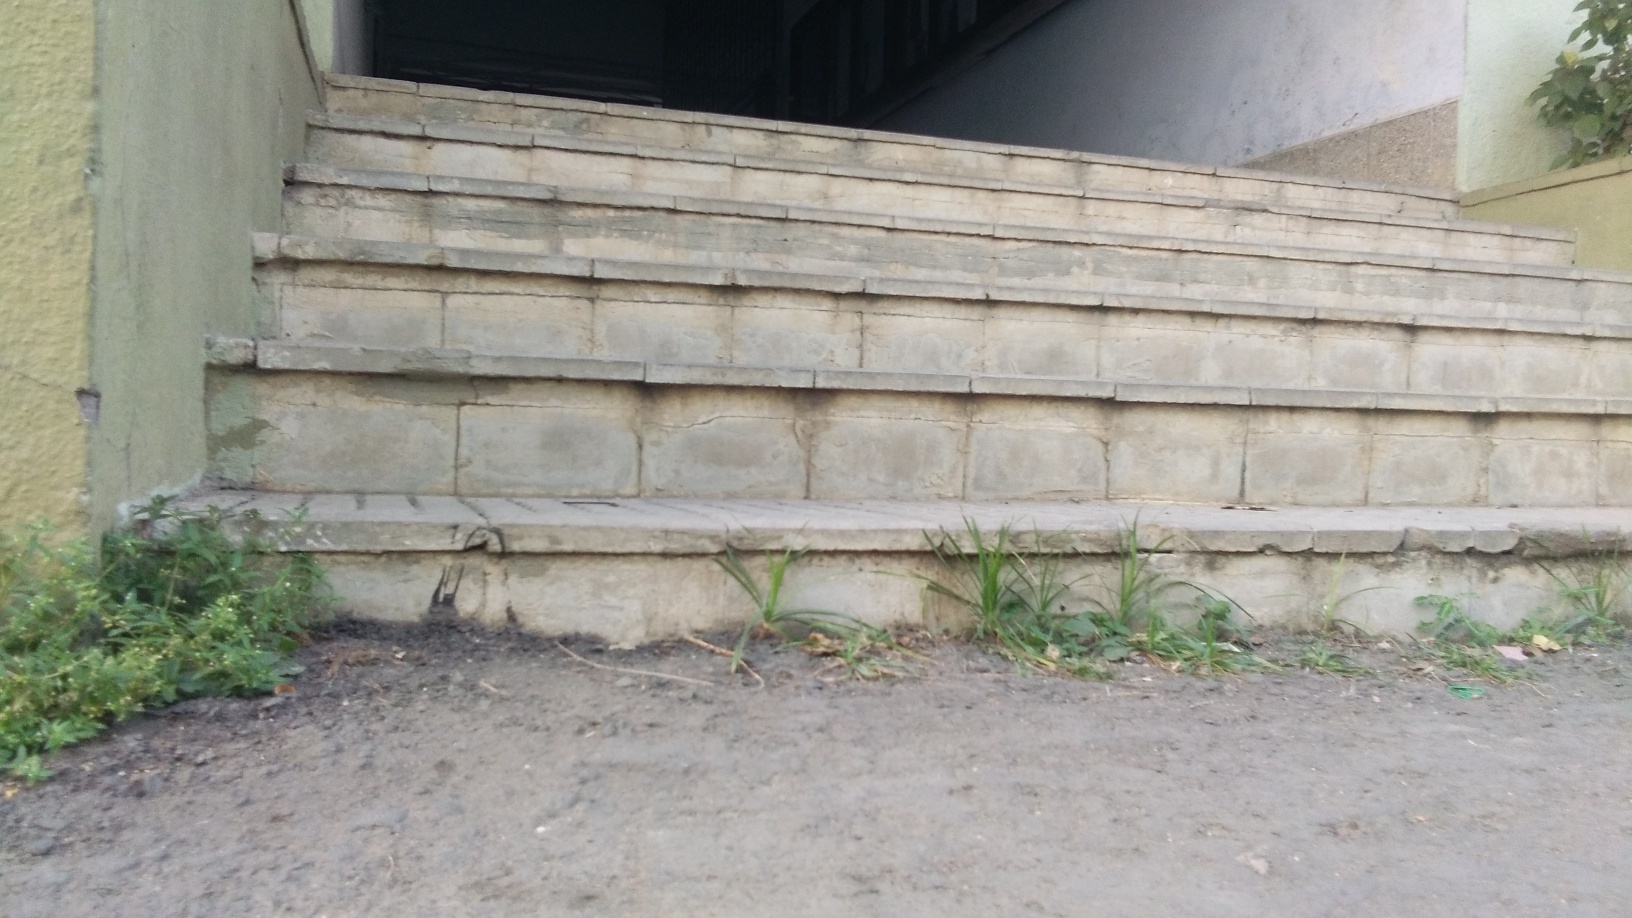stairs_up: (238, 59, 1632, 645)
